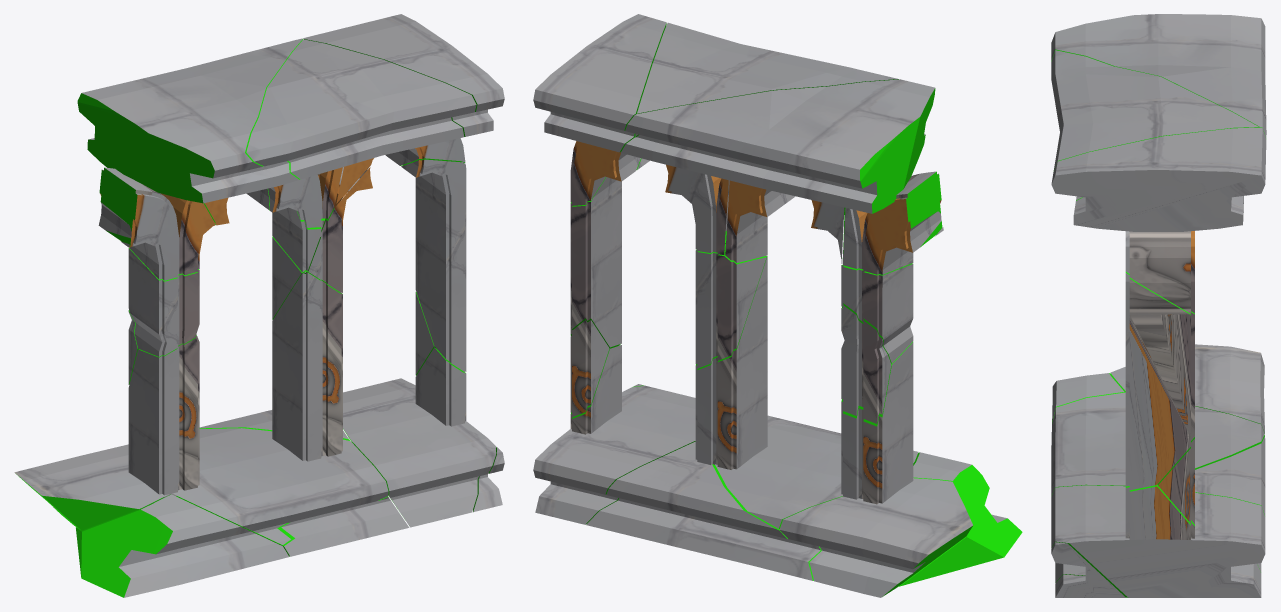
Rendered from SM_Fence1m_Half-Broken_01.fbx.
The picture shows the model from 3 angles, left to right: view 1: azimuth 30°, elevation 25°; view 2: azimuth 150°, elevation 25°; view 3: azimuth 270°, elevation 25°; orthographic projection.
Visible parts, largest first — view 1: SM_Fence1m_Half-Broken_01; view 2: SM_Fence1m_Half-Broken_01; view 3: SM_Fence1m_Half-Broken_01.
Part boxes in pixels (x1,y1,x2,y2): SM_Fence1m_Half-Broken_01: (14, 14, 504, 597); SM_Fence1m_Half-Broken_01: (533, 14, 1022, 597); SM_Fence1m_Half-Broken_01: (1051, 14, 1266, 597).
Size of the model in its own units: 0.9184 by 0.9466 by 0.4268.
